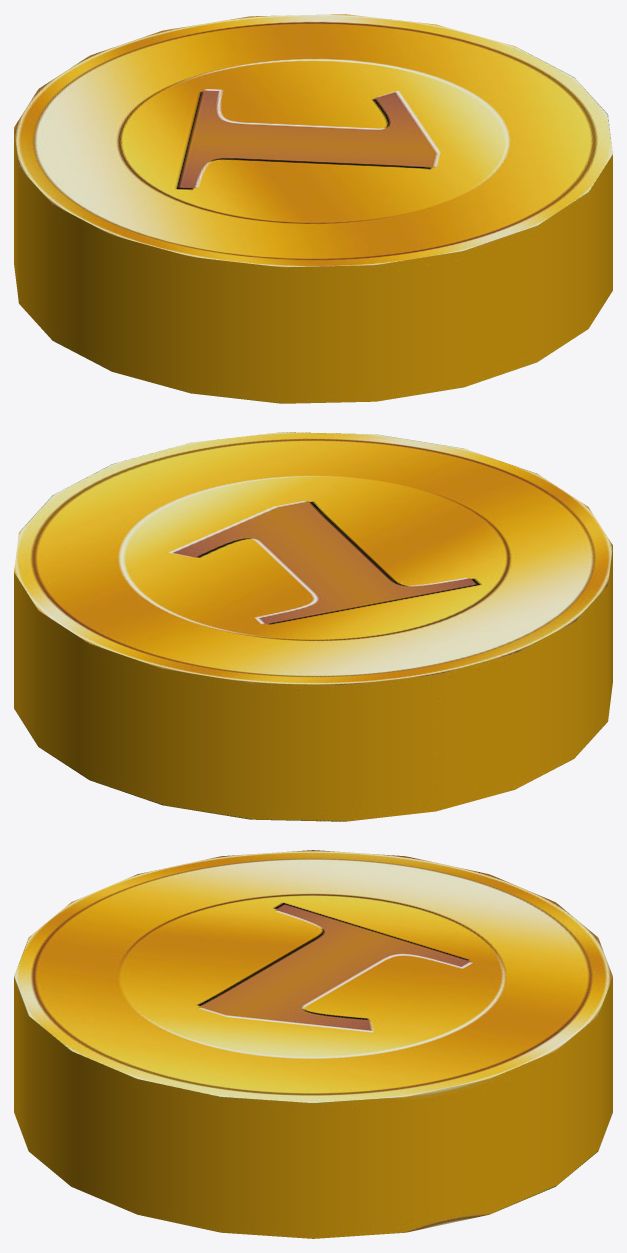
Rendered from CoinClassic.FBX.
3 views of the same model, one above another, from view 1: azimuth 30°, elevation 25°; view 2: azimuth 150°, elevation 25°; view 3: azimuth 270°, elevation 25° (orthographic).
Visible parts, largest first — view 1: Cylinder001; view 2: Cylinder001; view 3: Cylinder001.
Boxes of the visible parts, left/top/right/bottom form: Cylinder001: left=14, top=14, right=612, bottom=403; Cylinder001: left=14, top=432, right=612, bottom=821; Cylinder001: left=14, top=850, right=612, bottom=1238.
Bounding box in the file's own units: 40 × 10 × 40.
1 material, 1 textured.
